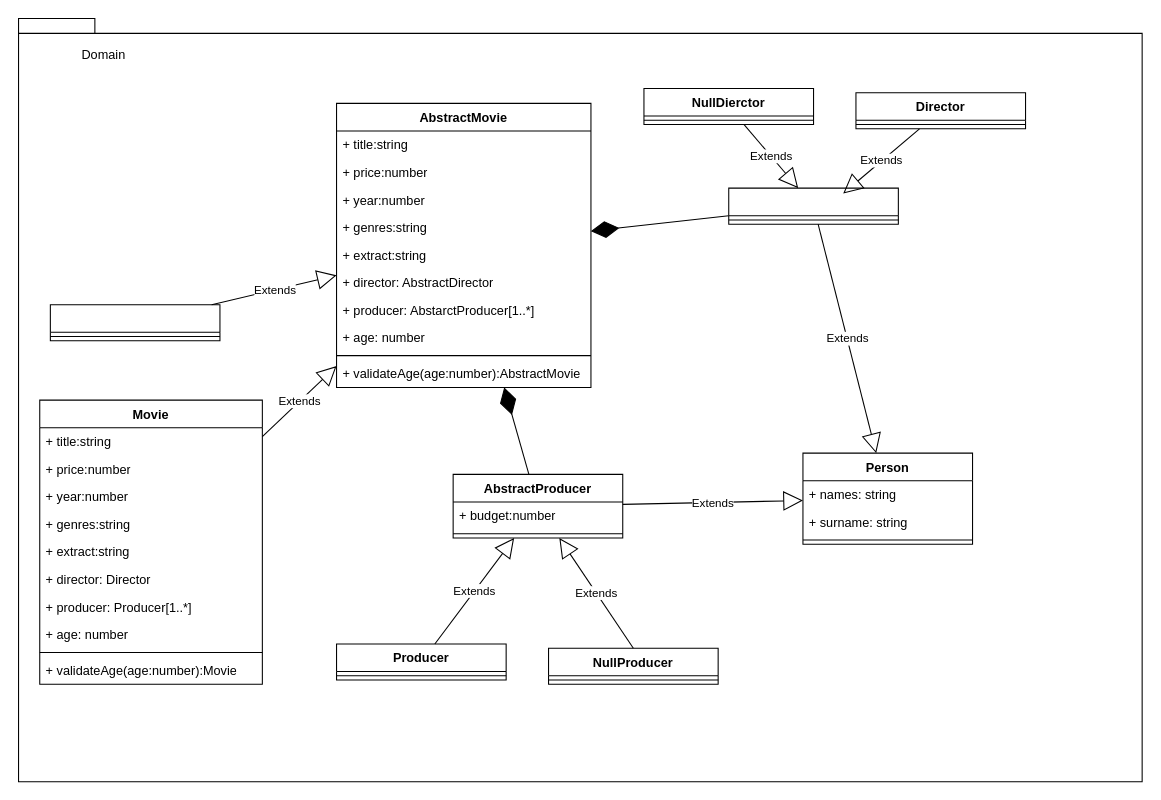
The diagram is 1161 pixels wide and 800 high, and some of its shapes have lost their labels. The centre of each missing label's shape, as x and y in pixels:
"Abstract" belongs at pixel 813 205.
"NullMovie" belongs at pixel 134 322.
